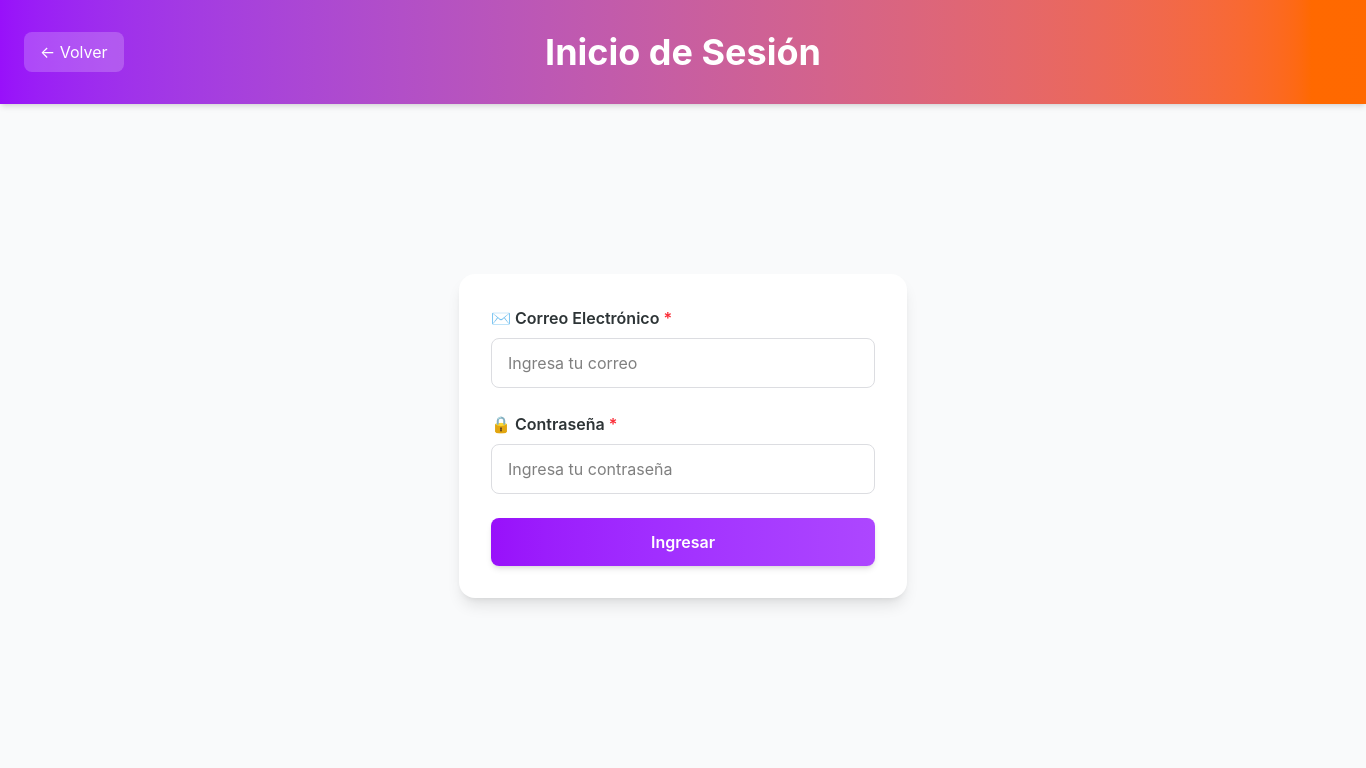
Test: LoginScreen Component › shows validation errors for invalid email format
Type "invalid-email" into the field with placeholder "Ingresa tu correo" at coordinates (683, 363), box [491,338,875,388]
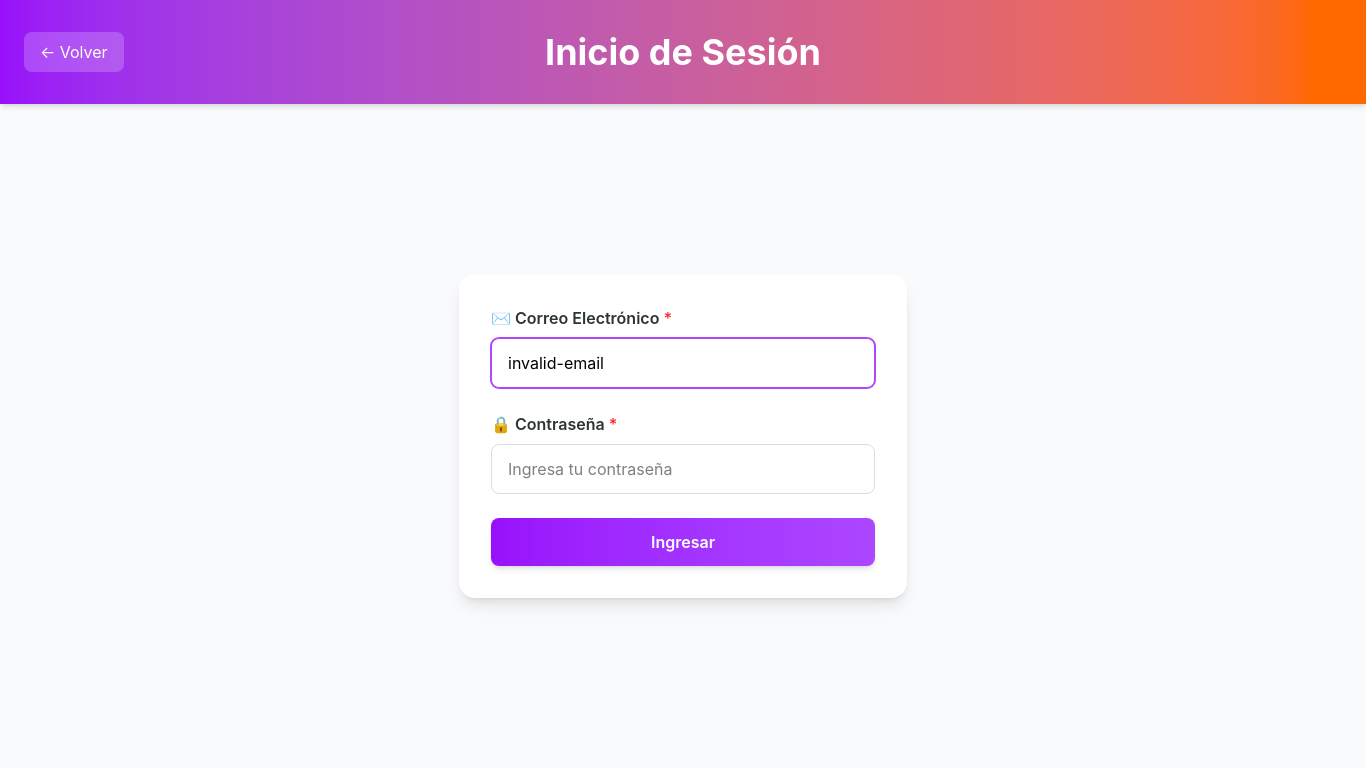
Submit the form with test id "login-form", box [491,306,875,566]
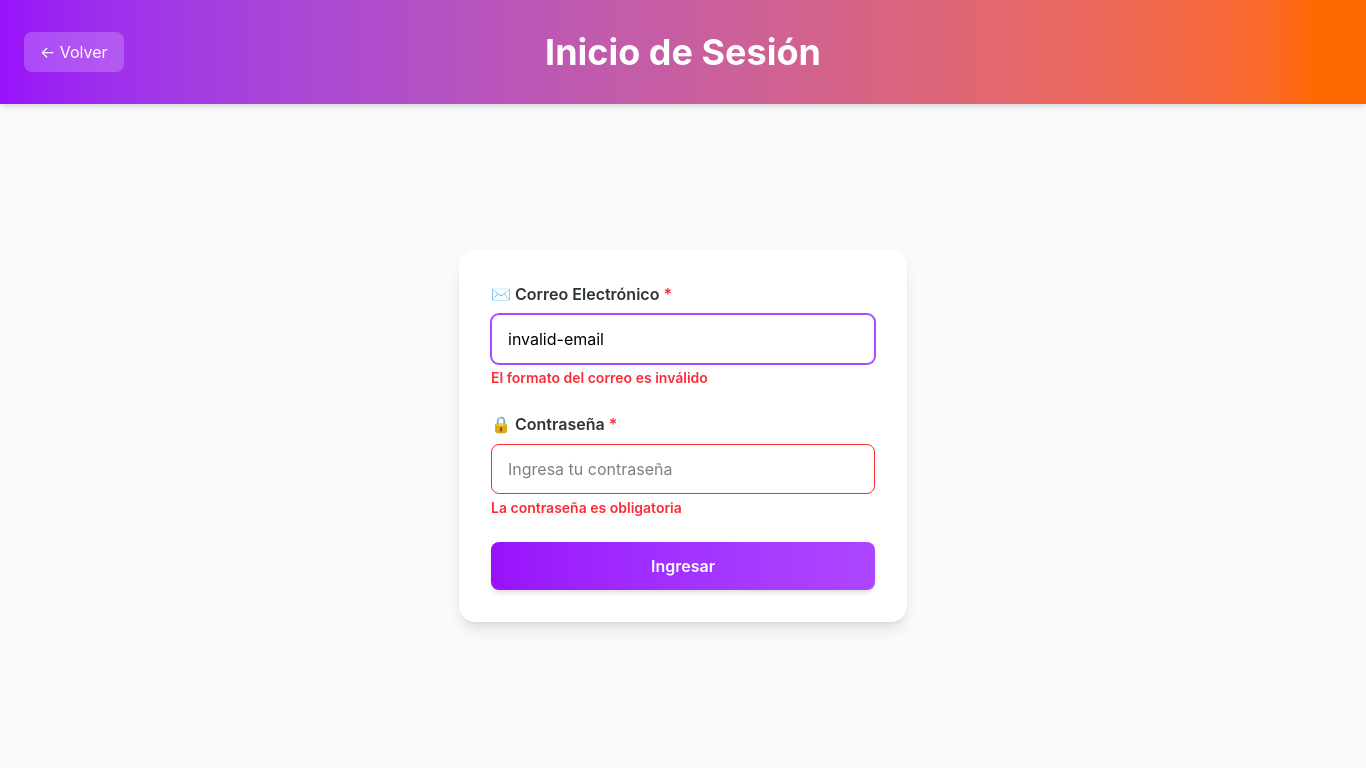
Check: the text "El formato del correo es inválido" is shown, box [491,369,708,386]
